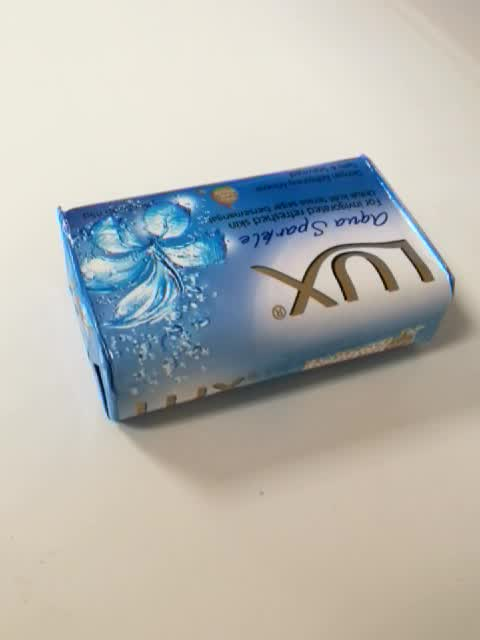soap: (54, 151, 456, 424)
